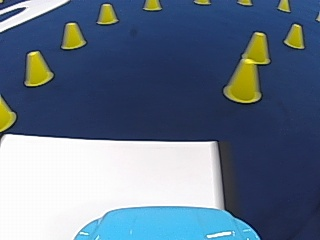cone: (223, 52, 262, 102), (23, 49, 54, 86), (242, 31, 271, 64), (60, 21, 86, 49), (0, 96, 16, 131), (284, 23, 304, 48), (96, 3, 117, 25), (143, 0, 160, 11), (277, 0, 290, 12)
